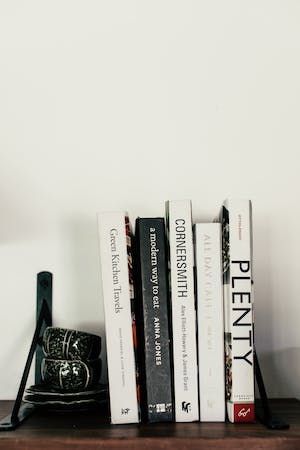book: (95, 207, 139, 427), (134, 217, 177, 423), (221, 197, 259, 424), (165, 198, 200, 422), (194, 219, 229, 424)
